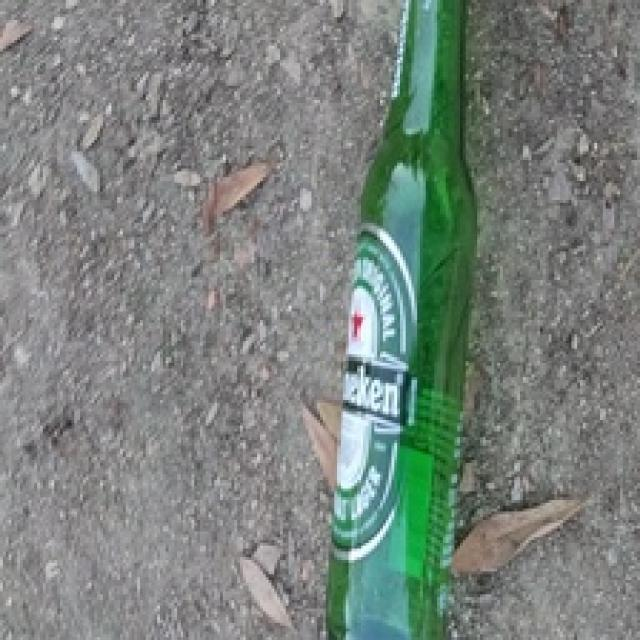Glass: (333, 0, 483, 640)
